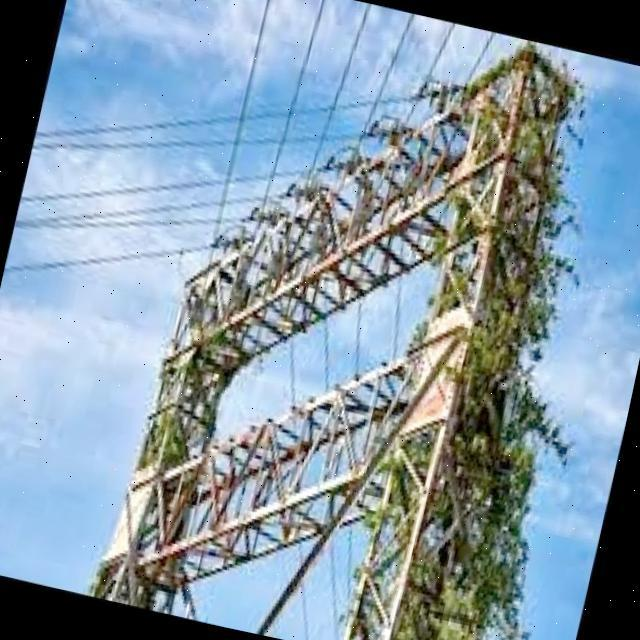critical vegetation: (335, 47, 606, 640), (130, 331, 212, 492)
